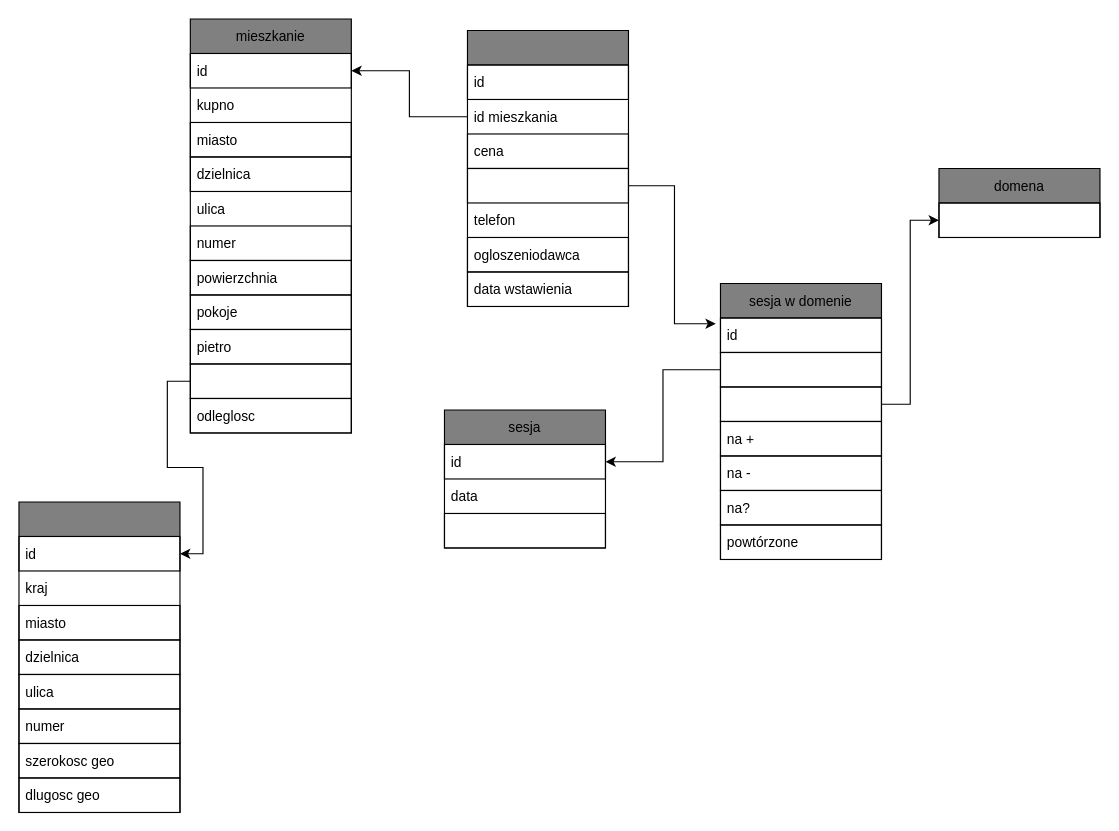
Image size: 1119x831. Some labels were removed from this diagram. The shapes that lost their labels are listed below. From the top down, each one's box as (x1, y1, x2, y2) in pixels, then its label:
(466, 29, 628, 306): ogloszenie
(466, 167, 628, 203): id sesji w domenie
(938, 202, 1100, 237): nazwa
(189, 363, 351, 398): seed point id
(719, 351, 881, 387): id sesji
(719, 386, 881, 421): nazwa domeny
(443, 512, 605, 548): uzyrkownik
(18, 501, 180, 812): seed point
